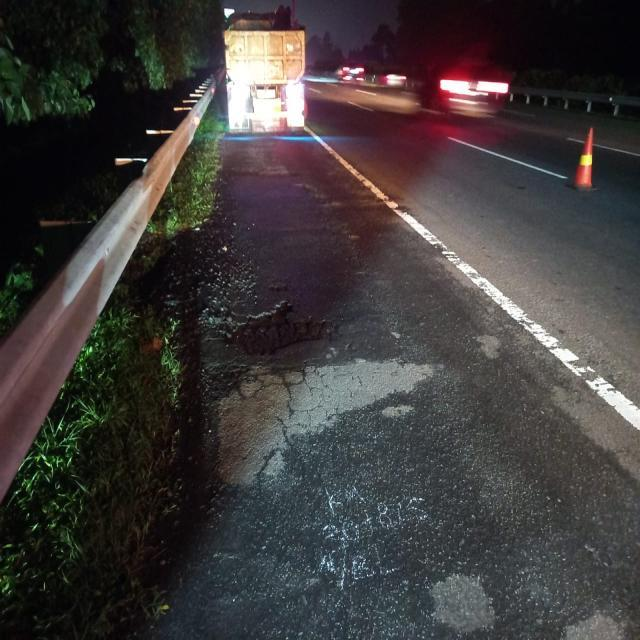Buraco: (192, 297, 332, 359), (221, 162, 308, 182), (262, 278, 297, 294), (288, 181, 322, 196), (513, 182, 529, 192)
